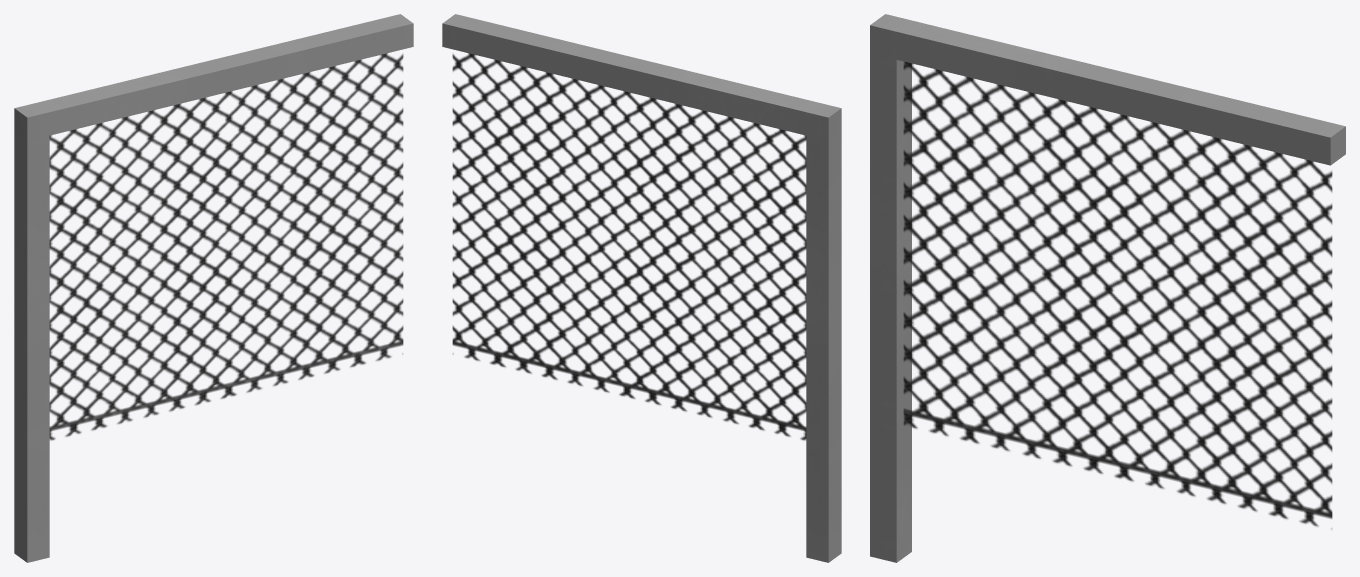
Rendered from fence-chainlink-1rail-1m-cbj_LOD00.gltf.
3 views of the same model, side by side, from view 1: azimuth 30°, elevation 25°; view 2: azimuth 150°, elevation 25°; view 3: azimuth 330°, elevation 25° (orthographic). The views are drawn at different scales.
Parts seen in each view (by area): view 1: post; view 2: post; view 3: post.
Part boxes in pixels (x1,y1,x2,y2): post: (14, 14, 413, 562); post: (442, 14, 841, 562); post: (870, 14, 1345, 562).
Size of the model in its own units: 1.21 by 1.33 by 0.07.
